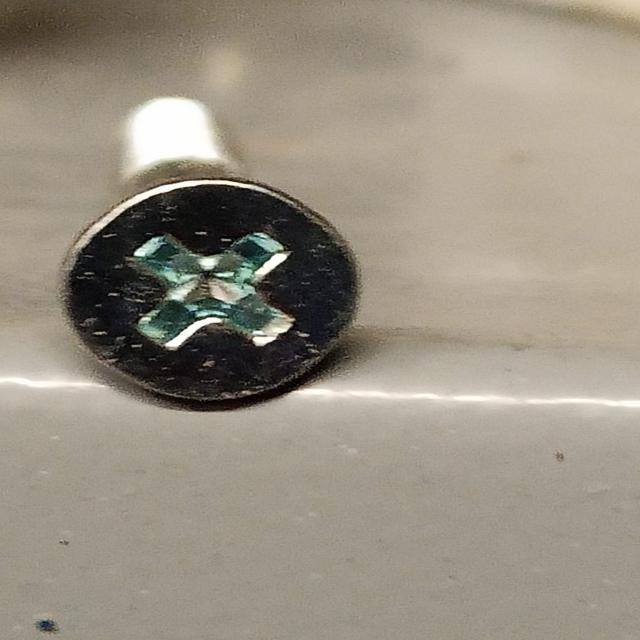phillips: (61, 179, 358, 404)
